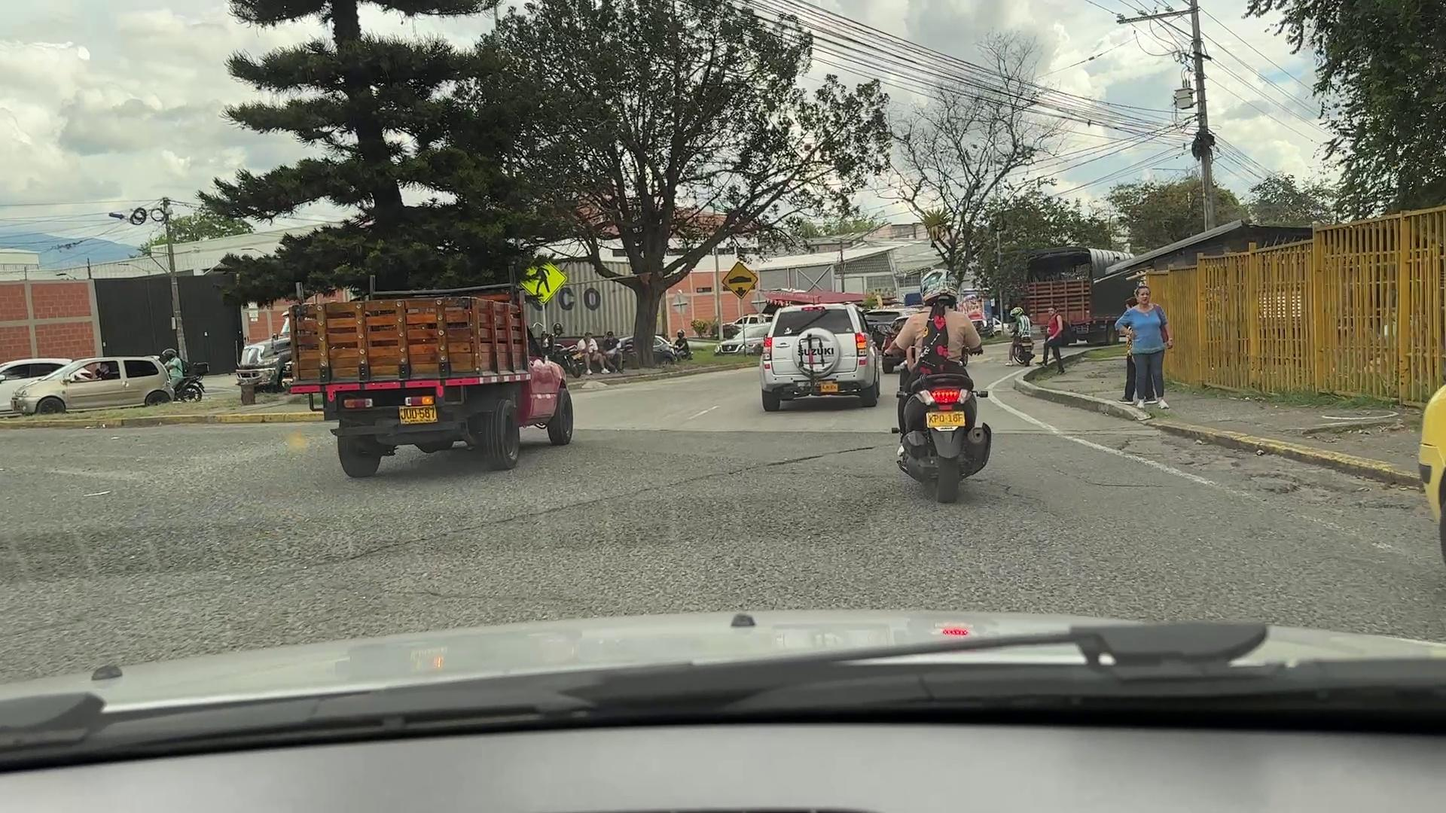bache: (1250, 473, 1345, 500), (1121, 436, 1192, 460), (767, 456, 823, 466), (830, 446, 878, 454)
